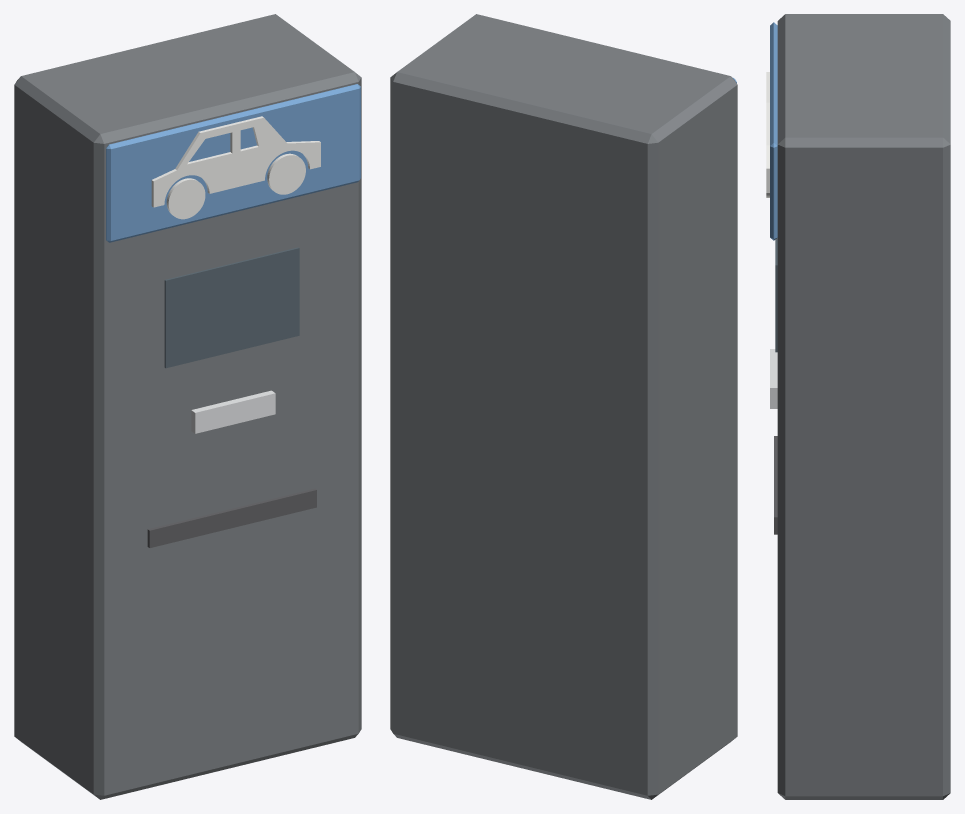
Rendered from pay_station.glb.
3 renders of one model, left to right at view 1: azimuth 30°, elevation 25°; view 2: azimuth 150°, elevation 25°; view 3: azimuth 270°, elevation 25°, orthographic.
Visible parts, largest first — view 1: pay_station_steel_d, pay_station_paint_b, pay_station_screen, pay_station_paint_w, pay_station_dark, pay_station_chrome; view 2: pay_station_steel_d; view 3: pay_station_steel_d, pay_station_paint_b, pay_station_paint_w, pay_station_chrome, pay_station_dark.
Boxes of the visible parts, box(x1,y1,x2,y2) form: pay_station_steel_d: box(14, 14, 361, 799); pay_station_paint_b: box(106, 84, 360, 242); pay_station_screen: box(164, 247, 299, 368); pay_station_paint_w: box(151, 116, 320, 219); pay_station_dark: box(147, 488, 316, 547); pay_station_chrome: box(191, 390, 275, 433); pay_station_steel_d: box(390, 14, 737, 799); pay_station_steel_d: box(777, 14, 950, 799); pay_station_paint_b: box(770, 22, 777, 240); pay_station_paint_w: box(766, 72, 769, 197); pay_station_chrome: box(770, 349, 777, 408); pay_station_dark: box(774, 436, 777, 534).
Bounding box in the file's own units: 0.8 × 1.9 × 0.48.
